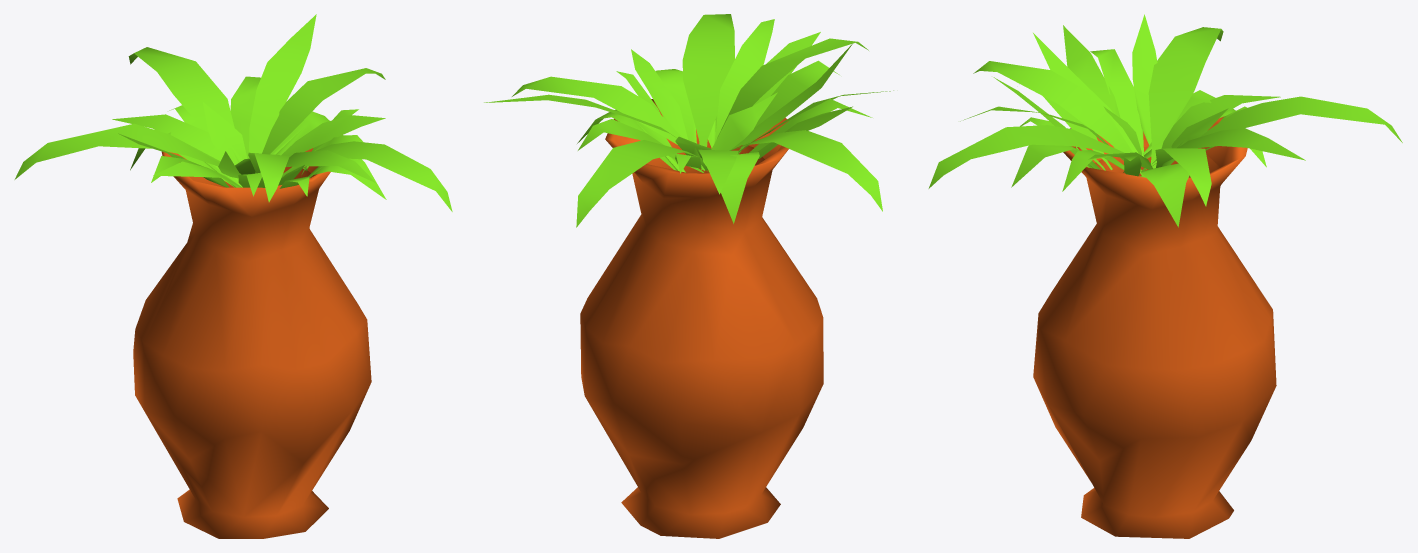
The model's file is gluden 1.fbx.
The picture shows the model from 3 angles, left to right: view 1: azimuth 30°, elevation 25°; view 2: azimuth 150°, elevation 25°; view 3: azimuth 270°, elevation 25°; orthographic projection. The views are drawn at different scales.
Visible parts, largest first — view 1: POT.001, POT.002; view 2: POT.001, POT.002; view 3: POT.001, POT.002.
Part boxes in pixels (left/top/right/bottom): POT.001: left=133, top=148, right=371, bottom=538; POT.002: left=14, top=14, right=452, bottom=211; POT.001: left=580, top=99, right=823, bottom=538; POT.002: left=484, top=14, right=893, bottom=227; POT.001: left=1033, top=116, right=1276, bottom=538; POT.002: left=928, top=14, right=1402, bottom=227.
Size of the model in its own units: 76.82 by 85.73 by 84.67.
1 material, 1 textured.
